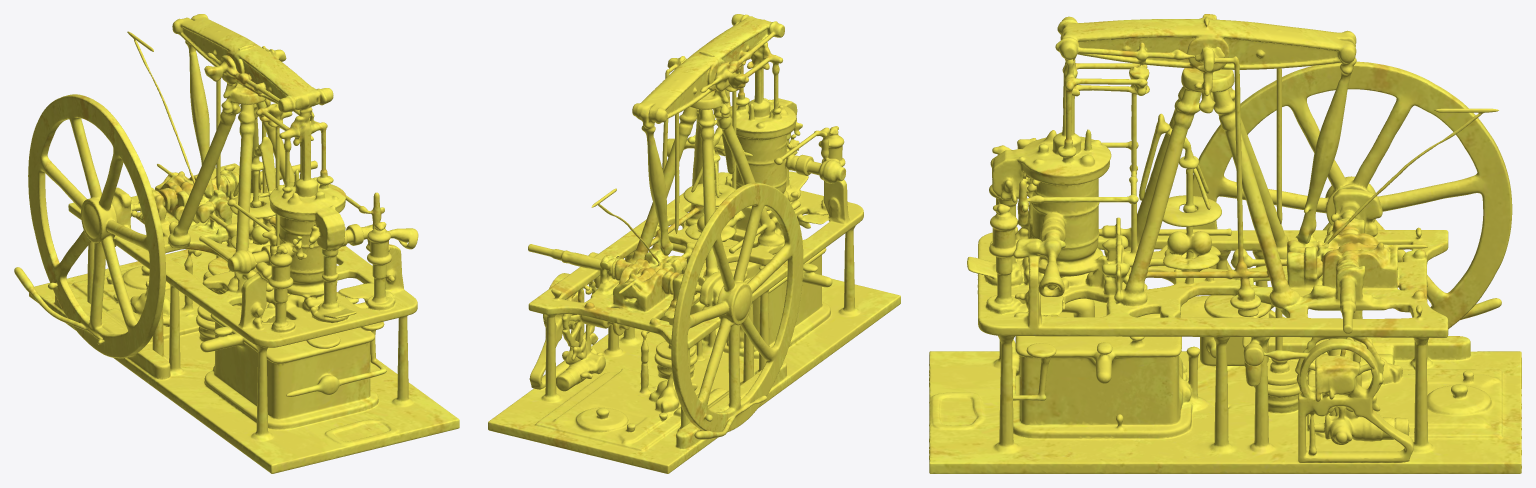
Rendered from Stroj_Jamesa_Watta.glb.
3 views of the same model, side by side, from view 1: azimuth 30°, elevation 25°; view 2: azimuth 150°, elevation 25°; view 3: azimuth 270°, elevation 25° (orthographic). The views are drawn at different scales.
Parts seen in each view (by area): view 1: tripo_node_7acc163c-59a1-403f-99ad-32cb590613a7; view 2: tripo_node_7acc163c-59a1-403f-99ad-32cb590613a7; view 3: tripo_node_7acc163c-59a1-403f-99ad-32cb590613a7.
Boxes of the visible parts, box(x1,y1,x2,y2) form: tripo_node_7acc163c-59a1-403f-99ad-32cb590613a7: box(14, 14, 459, 473); tripo_node_7acc163c-59a1-403f-99ad-32cb590613a7: box(488, 14, 900, 473); tripo_node_7acc163c-59a1-403f-99ad-32cb590613a7: box(929, 14, 1521, 473).
Size of the model in its own units: 0.5731 by 0.7368 by 1.
Materials: 1 (1 with a texture image).
